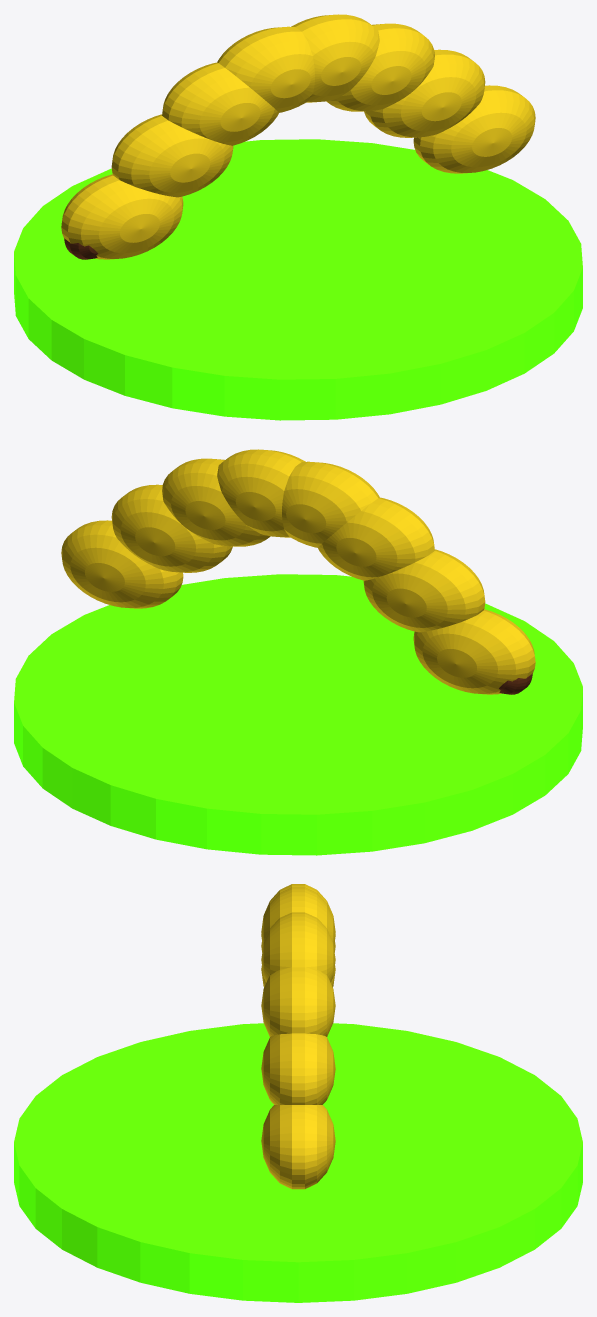
File: food_banana.dae
3 renders of one model, top to bottom at view 1: azimuth 30°, elevation 25°; view 2: azimuth 150°, elevation 25°; view 3: azimuth 270°, elevation 25°, orthographic.
Visible parts, largest first — view 1: 01_20_Popular_Food_Banana_ROOT_base, 01_20_Popular_Food_Banana_part_01, 01_20_Popular_Food_Banana_part_02, 01_20_Popular_Food_Banana_part_08, 01_20_Popular_Food_Banana_part_03, 01_20_Popular_Food_Banana_part_07, 01_20_Popular_Food_Banana_part_04, 01_20_Popular_Food_Banana_part_06, 01_20_Popular_Food_Banana_part_05; view 2: 01_20_Popular_Food_Banana_ROOT_base, 01_20_Popular_Food_Banana_part_01, 01_20_Popular_Food_Banana_part_02, 01_20_Popular_Food_Banana_part_08, 01_20_Popular_Food_Banana_part_03, 01_20_Popular_Food_Banana_part_07, 01_20_Popular_Food_Banana_part_04, 01_20_Popular_Food_Banana_part_06, 01_20_Popular_Food_Banana_part_05; view 3: 01_20_Popular_Food_Banana_ROOT_base, 01_20_Popular_Food_Banana_part_08, 01_20_Popular_Food_Banana_part_07, 01_20_Popular_Food_Banana_part_06, 01_20_Popular_Food_Banana_part_05, 01_20_Popular_Food_Banana_part_04.
Boxes of the visible parts, <box> form: 01_20_Popular_Food_Banana_ROOT_base: <box>14,139,582,420</box>; 01_20_Popular_Food_Banana_part_01: <box>61,174,183,259</box>; 01_20_Popular_Food_Banana_part_02: <box>111,114,233,197</box>; 01_20_Popular_Food_Banana_part_08: <box>413,85,535,173</box>; 01_20_Popular_Food_Banana_part_03: <box>162,62,278,145</box>; 01_20_Popular_Food_Banana_part_07: <box>364,49,485,137</box>; 01_20_Popular_Food_Banana_part_04: <box>217,26,314,112</box>; 01_20_Popular_Food_Banana_part_06: <box>326,23,434,111</box>; 01_20_Popular_Food_Banana_part_05: <box>291,14,379,102</box>; 01_20_Popular_Food_Banana_ROOT_base: <box>14,574,582,855</box>; 01_20_Popular_Food_Banana_part_01: <box>413,609,535,694</box>; 01_20_Popular_Food_Banana_part_02: <box>363,549,485,632</box>; 01_20_Popular_Food_Banana_part_08: <box>61,520,183,608</box>; 01_20_Popular_Food_Banana_part_03: <box>318,497,434,580</box>; 01_20_Popular_Food_Banana_part_07: <box>111,484,232,572</box>; 01_20_Popular_Food_Banana_part_04: <box>282,461,379,547</box>; 01_20_Popular_Food_Banana_part_06: <box>162,458,270,546</box>; 01_20_Popular_Food_Banana_part_05: <box>217,449,305,537</box>; 01_20_Popular_Food_Banana_ROOT_base: <box>14,1023,582,1302</box>; 01_20_Popular_Food_Banana_part_08: <box>261,1105,335,1189</box>; 01_20_Popular_Food_Banana_part_07: <box>261,1033,335,1104</box>; 01_20_Popular_Food_Banana_part_06: <box>261,967,335,1036</box>; 01_20_Popular_Food_Banana_part_05: <box>261,912,335,982</box>; 01_20_Popular_Food_Banana_part_04: <box>261,887,335,946</box>.
Size of the model in its own units: 0.76 by 0.4042 by 0.76.
